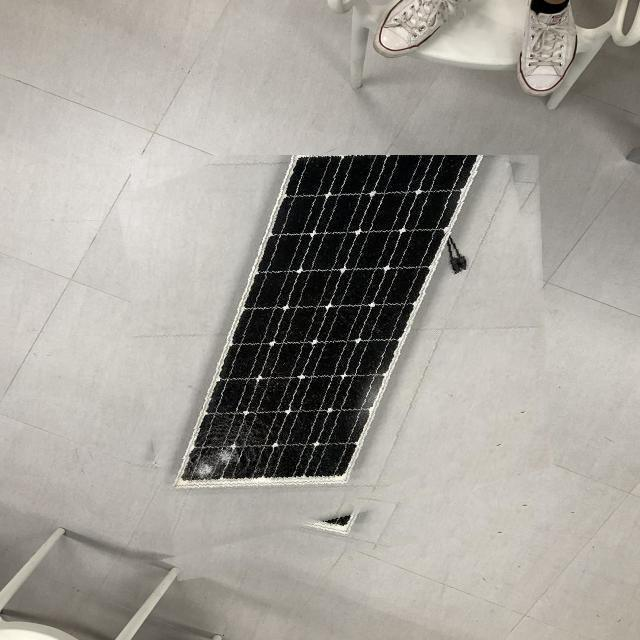Photovoltaic-Panel: (130, 155, 550, 567)
